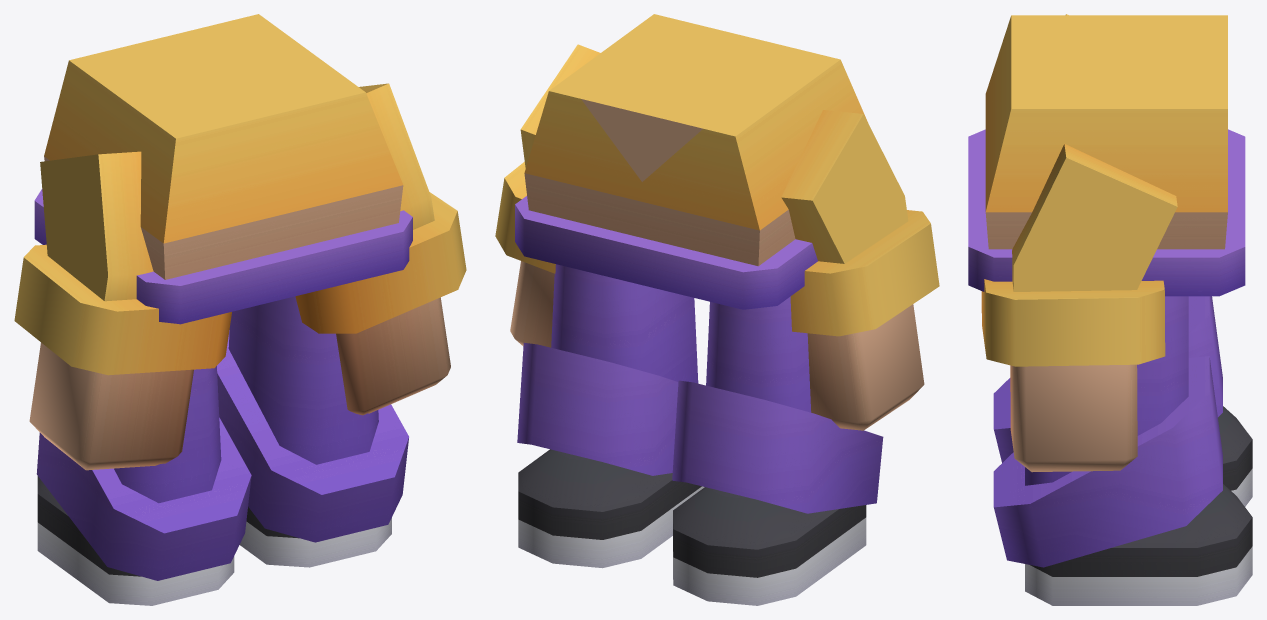
The model's file is mini-female-b.glb.
3 renders of one model, left to right at view 1: azimuth 30°, elevation 25°; view 2: azimuth 150°, elevation 25°; view 3: azimuth 270°, elevation 25°, orthographic. The views are drawn at different scales.
Parts seen in each view (by area): view 1: body-mesh; view 2: body-mesh; view 3: body-mesh.
Boxes of the visible parts, <box> form: body-mesh: <box>14,14,466,605</box>; body-mesh: <box>495,14,939,605</box>; body-mesh: <box>968,14,1252,605</box>.
Bounding box in the file's own units: 1.23 × 1.4 × 0.7591.
Materials: 1 (1 with a texture image).
